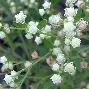weed: (18, 9, 89, 78)
